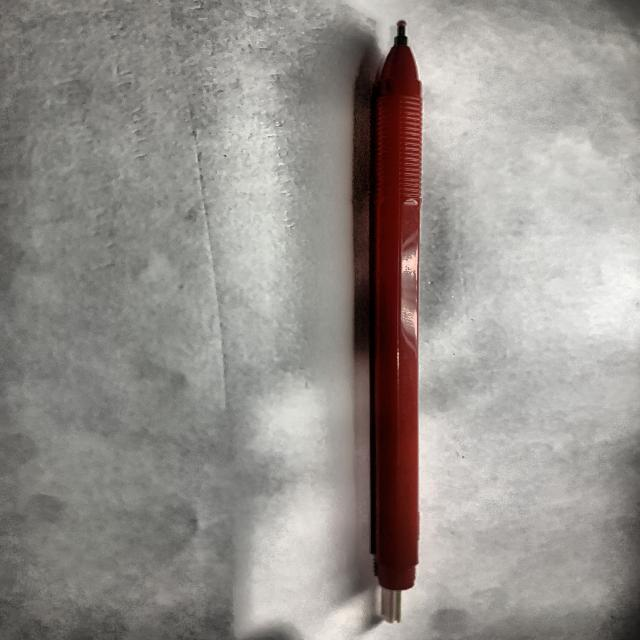Pulpen: (349, 15, 454, 639)
